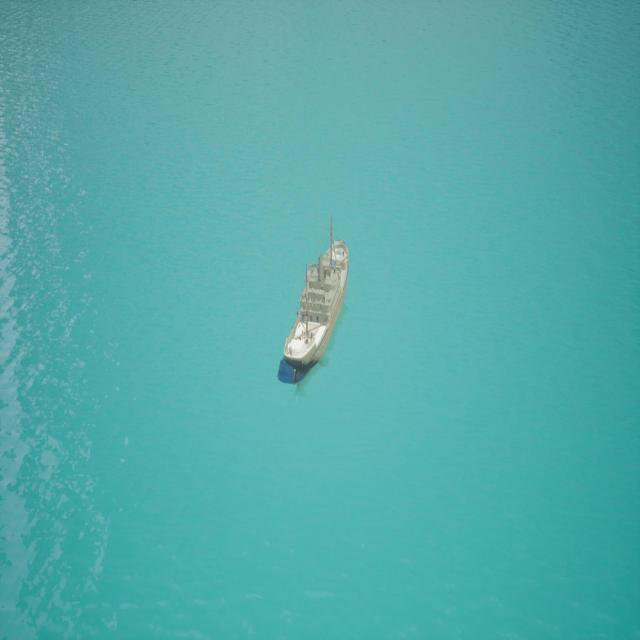fishing ship: (283, 219, 350, 390)
